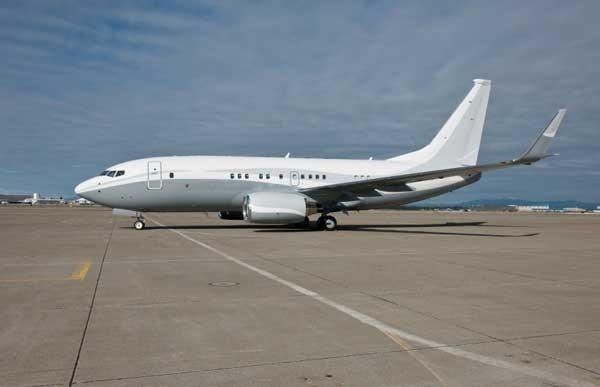airplane: (72, 78, 571, 231)
